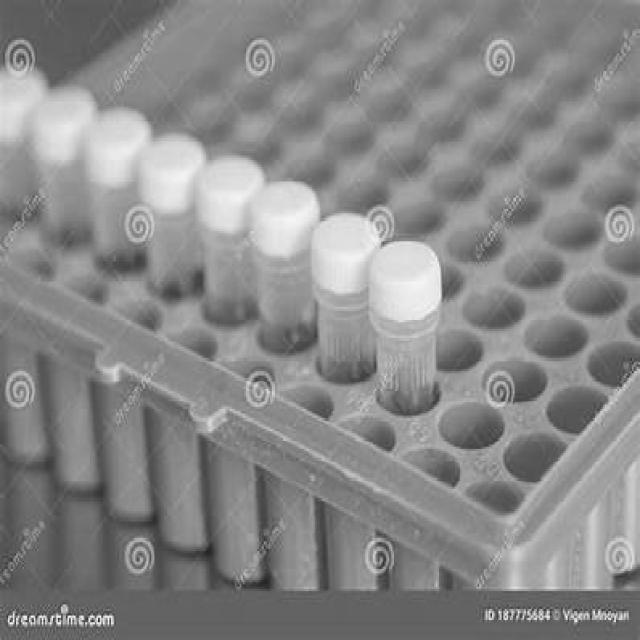vial: (376, 244, 439, 300), (252, 180, 322, 230), (140, 138, 204, 186), (195, 156, 258, 202), (44, 92, 98, 143), (96, 122, 144, 168), (325, 223, 373, 265), (0, 66, 42, 110)
